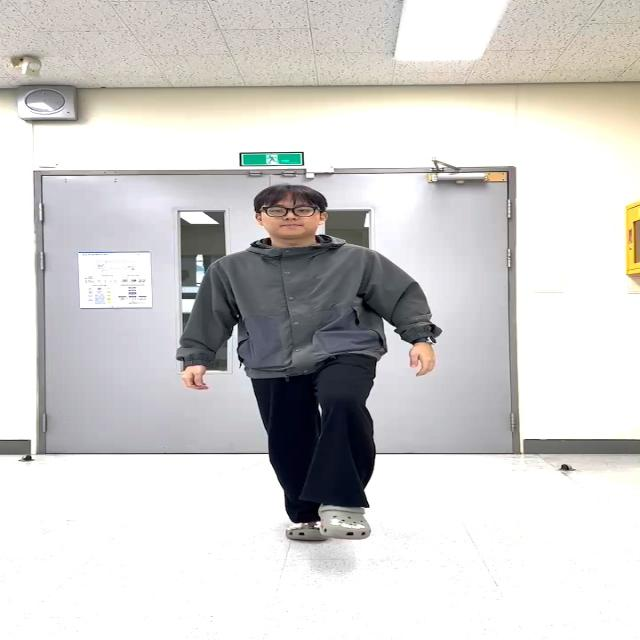leg: (307, 340, 391, 544)
